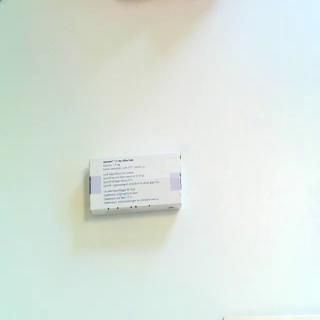imovane7-5mg: (89, 151, 183, 218)
